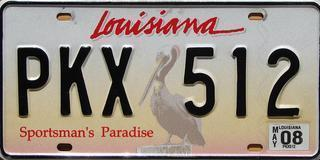placa de veiculo: (4, 2, 312, 154)
